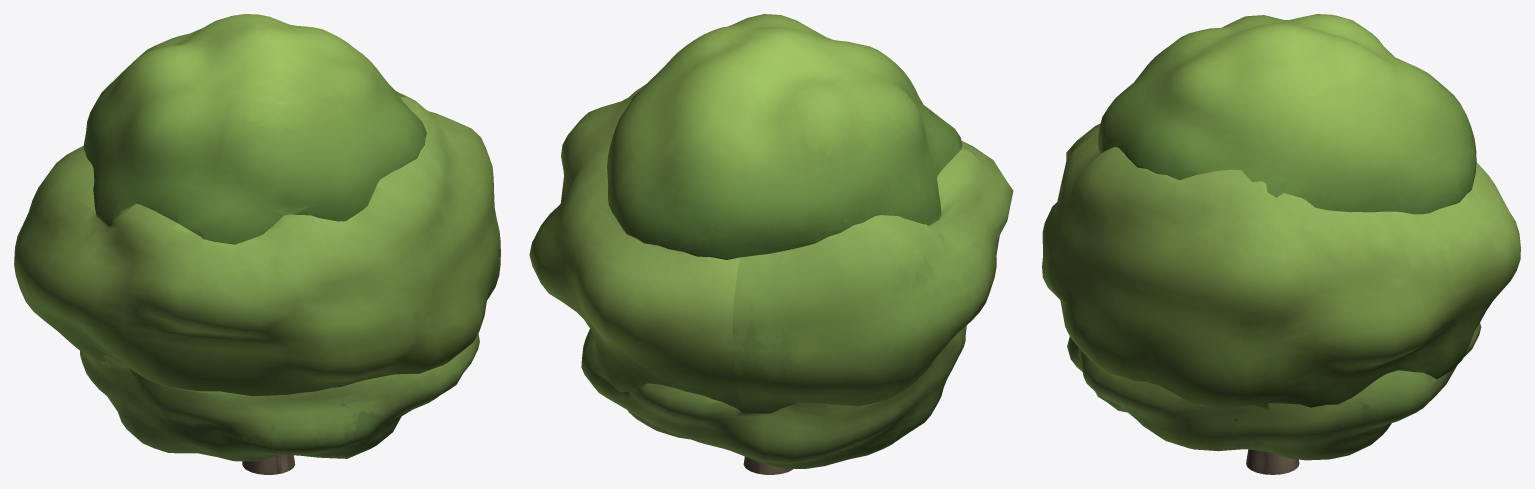
Rendered from bush_ModelV2.fbx.
The picture shows the model from 3 angles, left to right: view 1: azimuth 30°, elevation 25°; view 2: azimuth 150°, elevation 25°; view 3: azimuth 270°, elevation 25°; orthographic projection.
Parts seen in each view (by area): view 1: pasted__pasted__pSphere2; view 2: pasted__pasted__pSphere2; view 3: pasted__pasted__pSphere2.
Part boxes in pixels (<box>): pasted__pasted__pSphere2: <box>14,14,500,474</box>; pasted__pasted__pSphere2: <box>529,14,1013,474</box>; pasted__pasted__pSphere2: <box>1042,14,1520,474</box>.
Size of the model in its own units: 34.31 by 33.55 by 33.67.
Materials: 1 (1 with a texture image).
